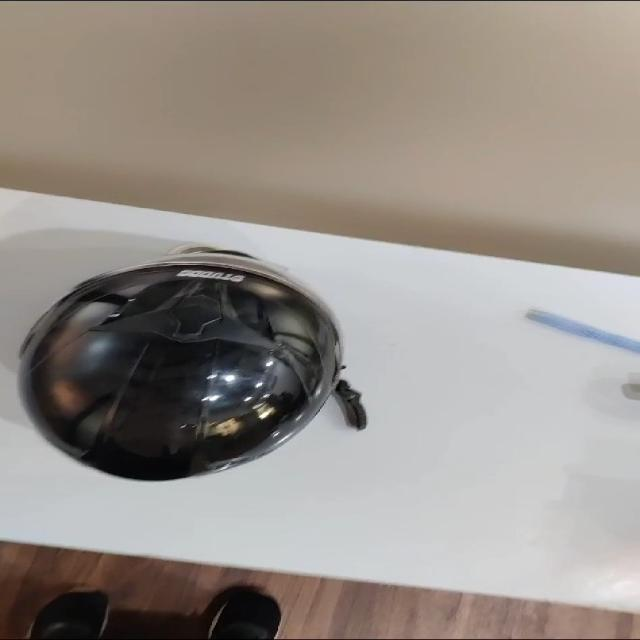helmet: (28, 249, 344, 486)
